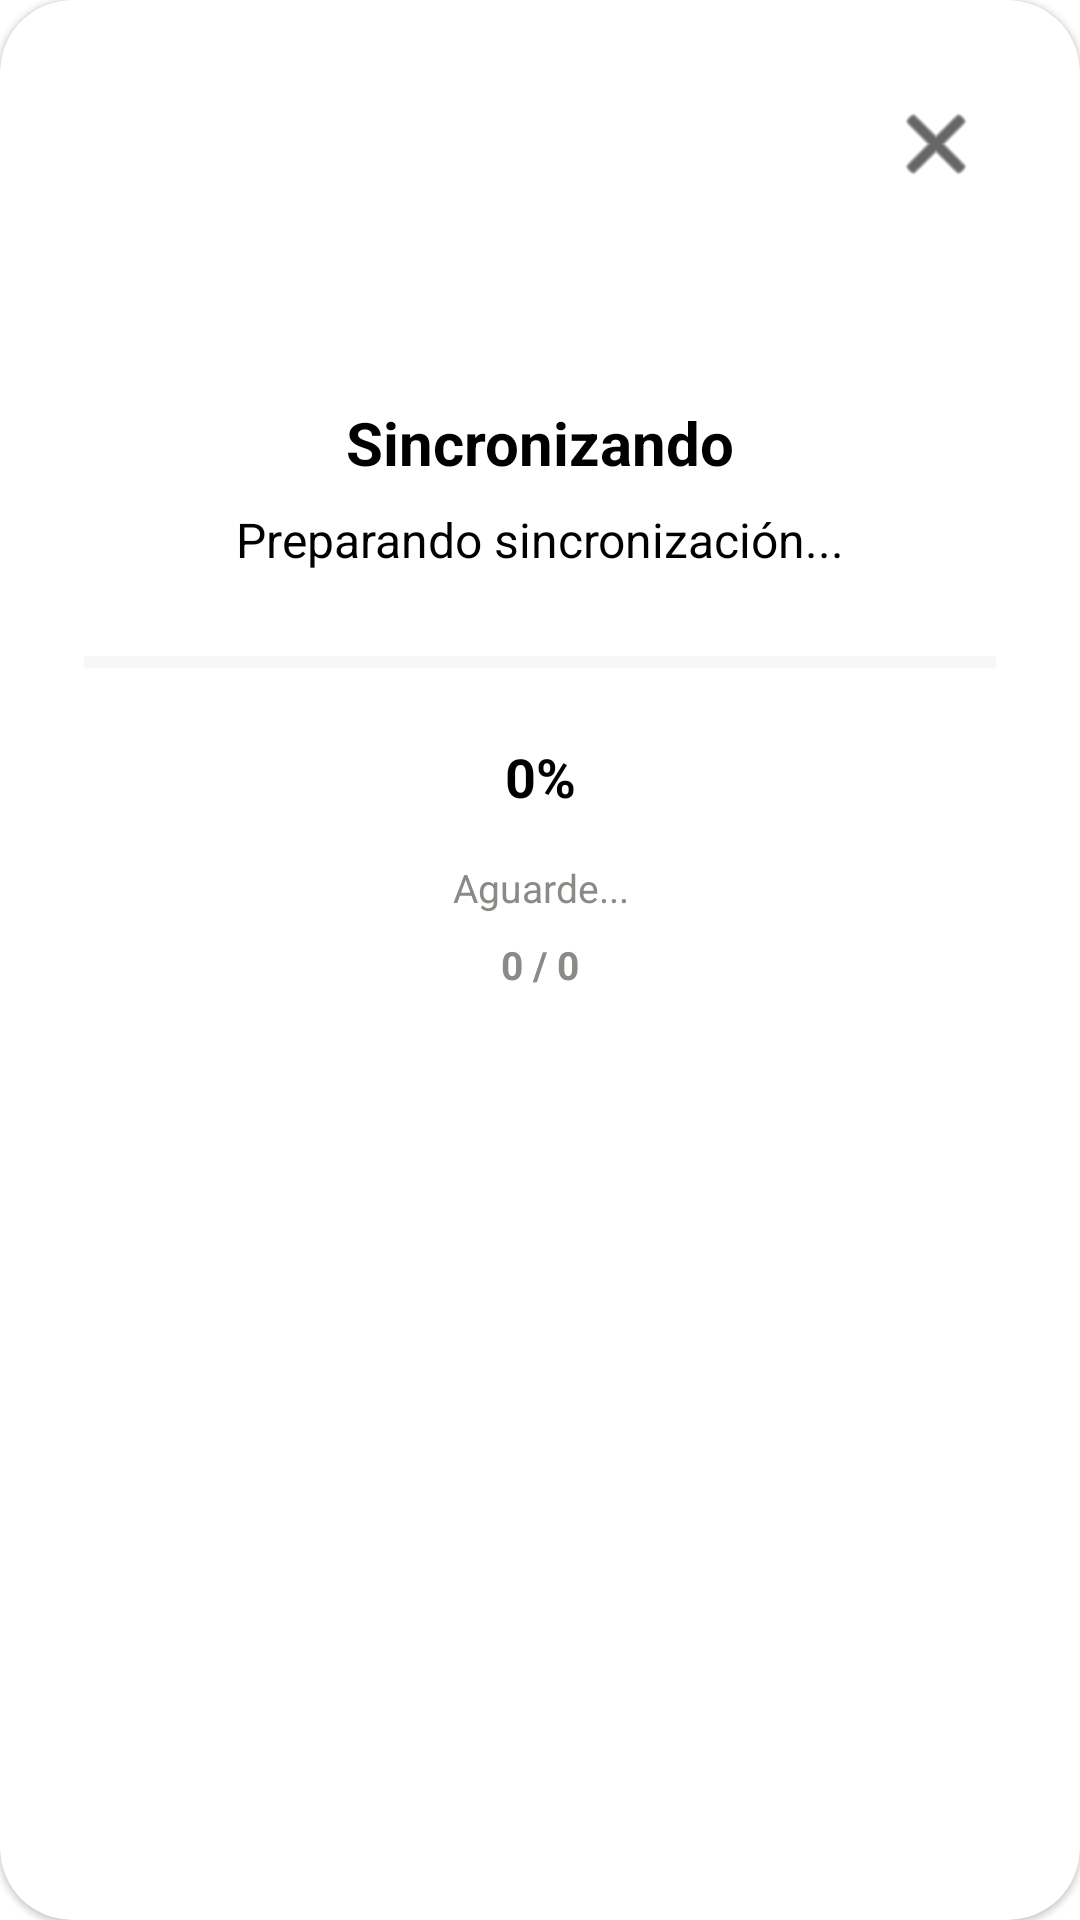

Named icons in this screenshot (1080px×1920px) and their bounding boxes, (x1, y1, x2, y2):
Cancelar sincronización: (906, 114, 966, 174)
